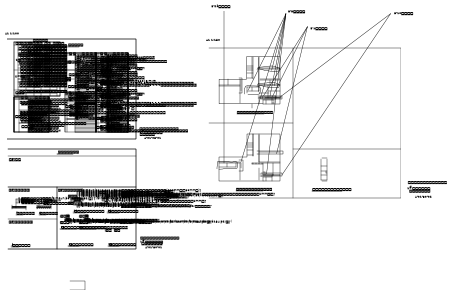corridor: (286, 231, 312, 237), (286, 214, 312, 220)
room: (240, 128, 263, 136), (271, 207, 290, 216), (286, 231, 312, 237), (286, 214, 312, 220), (265, 126, 269, 137), (294, 202, 308, 205), (112, 98, 115, 102), (287, 203, 293, 205), (112, 94, 115, 97), (108, 95, 112, 97), (113, 98, 115, 102), (110, 91, 112, 94), (112, 91, 114, 94), (110, 102, 112, 105), (112, 102, 114, 105), (113, 94, 115, 97), (108, 94, 112, 95)
staircase: (15, 245, 17, 246), (16, 225, 17, 226)
wall: (313, 122, 439, 292), (0, 160, 147, 265), (1, 44, 148, 149), (267, 135, 319, 292), (303, 144, 343, 278), (297, 123, 319, 292), (293, 205, 343, 278), (242, 197, 312, 247), (243, 115, 312, 165), (276, 212, 319, 292), (101, 167, 139, 251), (8, 205, 61, 263), (66, 167, 101, 251), (301, 205, 319, 292), (8, 167, 47, 205), (72, 0, 89, 10), (293, 115, 312, 122), (292, 197, 312, 203), (290, 120, 315, 124), (286, 144, 315, 147), (290, 202, 314, 205), (265, 208, 268, 224), (290, 120, 304, 123), (227, 263, 235, 268), (0, 270, 5, 275), (294, 203, 313, 204), (70, 258, 73, 260), (58, 145, 61, 147), (2, 137, 5, 139), (69, 98, 72, 100), (60, 77, 63, 79), (60, 70, 63, 72), (112, 62, 115, 64), (58, 105, 61, 107), (2, 71, 5, 73), (82, 77, 85, 79), (82, 70, 85, 72), (2, 105, 5, 107), (122, 62, 124, 64), (75, 82, 77, 84), (114, 82, 116, 84), (69, 91, 72, 92), (16, 172, 18, 173), (16, 203, 18, 204), (32, 203, 34, 204), (71, 249, 73, 250), (85, 249, 87, 250), (66, 240, 68, 241), (70, 227, 72, 228), (66, 193, 68, 194), (106, 249, 108, 250), (121, 249, 123, 250), (105, 226, 107, 227), (107, 182, 109, 183), (14, 198, 16, 199), (14, 187, 16, 188), (105, 219, 107, 220), (107, 210, 109, 211), (122, 62, 124, 63), (5, 46, 6, 48), (62, 65, 64, 66), (83, 65, 85, 66), (71, 47, 73, 48), (68, 73, 69, 75), (70, 73, 71, 75), (82, 71, 84, 72), (90, 73, 91, 75), (91, 73, 92, 75), (10, 80, 11, 82), (36, 80, 37, 82), (37, 80, 39, 81), (16, 92, 18, 93), (16, 96, 18, 97), (16, 93, 18, 94), (19, 93, 21, 94), (24, 93, 26, 94), (38, 91, 40, 92), (41, 91, 43, 92), (115, 191, 117, 192), (116, 191, 118, 192), (118, 191, 120, 192), (115, 189, 117, 190), (118, 189, 120, 190), (115, 193, 117, 194), (119, 193, 121, 194), (115, 185, 117, 186), (118, 185, 120, 186), (115, 187, 117, 188), (118, 187, 120, 188), (115, 195, 117, 196), (79, 195, 81, 196), (79, 197, 81, 198), (79, 187, 81, 188), (79, 189, 81, 190), (16, 196, 17, 197), (71, 202, 72, 203), (70, 240, 71, 241), (70, 214, 71, 215), (66, 223, 67, 224), (102, 211, 103, 212), (108, 245, 109, 246), (106, 243, 107, 244), (108, 228, 109, 229), (102, 181, 103, 182), (106, 172, 107, 173), (15, 180, 16, 181), (16, 178, 17, 179), (107, 171, 108, 172), (107, 241, 108, 242), (107, 179, 108, 180), (108, 233, 109, 234), (107, 180, 108, 181), (102, 171, 103, 172), (107, 178, 108, 179), (15, 186, 16, 187), (108, 221, 109, 222), (107, 217, 108, 218), (107, 205, 108, 206), (70, 91, 71, 92), (70, 99, 71, 100), (61, 77, 62, 78), (61, 71, 62, 72), (113, 62, 114, 63), (6, 46, 7, 47), (77, 83, 78, 84), (61, 65, 62, 66), (82, 65, 83, 66), (117, 47, 118, 48), (115, 47, 116, 48), (116, 47, 117, 48), (70, 47, 71, 48), (116, 83, 117, 84), (68, 78, 69, 79), (70, 78, 71, 79), (114, 97, 115, 98), (83, 77, 84, 78), (90, 78, 91, 79), (90, 74, 91, 75), (91, 78, 92, 79), (91, 74, 92, 75), (11, 80, 12, 81), (13, 92, 14, 93), (13, 96, 14, 97), (13, 93, 14, 94), (24, 93, 25, 94), (13, 94, 14, 95), (16, 94, 17, 95), (107, 196, 108, 197), (108, 197, 109, 198), (106, 193, 107, 194), (123, 191, 124, 192), (125, 191, 126, 192), (115, 201, 116, 202), (115, 199, 116, 200), (115, 197, 116, 198), (129, 191, 130, 192), (71, 194, 72, 195), (72, 193, 73, 194), (72, 192, 73, 193), (71, 186, 72, 187), (72, 185, 73, 186), (71, 184, 72, 185), (9, 183, 10, 183), (66, 208, 68, 208), (70, 204, 71, 204), (71, 208, 72, 208), (107, 237, 109, 237), (72, 207, 73, 207), (72, 201, 73, 201), (107, 232, 108, 232), (106, 241, 107, 241), (107, 230, 107, 231), (109, 226, 110, 226), (107, 169, 107, 170), (15, 185, 16, 185), (66, 222, 67, 222), (109, 219, 110, 219), (126, 221, 127, 221), (108, 207, 109, 207), (107, 204, 107, 205), (107, 203, 108, 203), (5, 47, 6, 47), (76, 83, 77, 83), (61, 66, 62, 66), (82, 66, 83, 66), (115, 83, 116, 83), (69, 74, 69, 75), (70, 74, 70, 75), (10, 81, 11, 81), (36, 81, 37, 81), (38, 94, 40, 94), (42, 94, 43, 94), (45, 94, 46, 94), (50, 94, 50, 94), (50, 94, 51, 94), (107, 201, 109, 201), (107, 194, 107, 195), (132, 207, 133, 207), (107, 243, 108, 243)
window: (76, 96, 77, 97), (80, 94, 81, 95), (84, 96, 84, 97)
